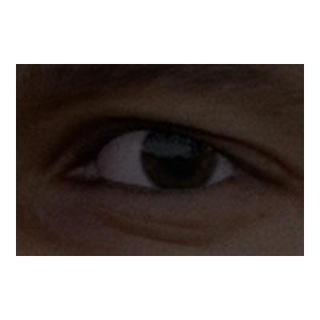pupil: (161, 138, 197, 174)
